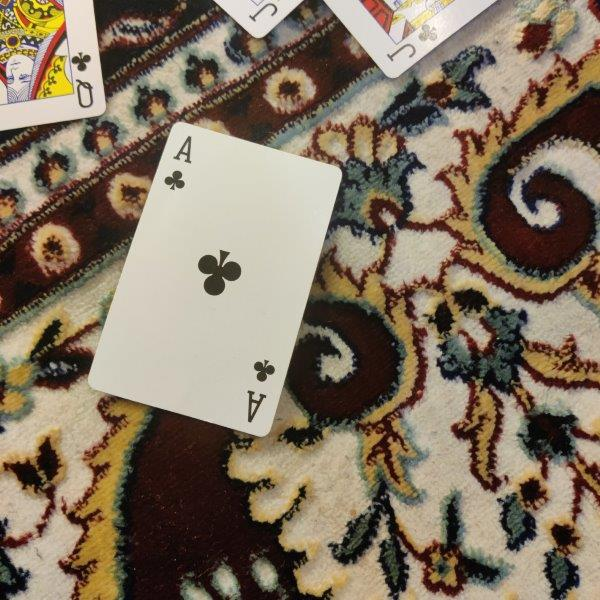Ace of Clubs: (87, 122, 343, 438)
Jack of Clubs: (323, 1, 498, 80)
Queen of Clubs: (1, 1, 105, 132)
